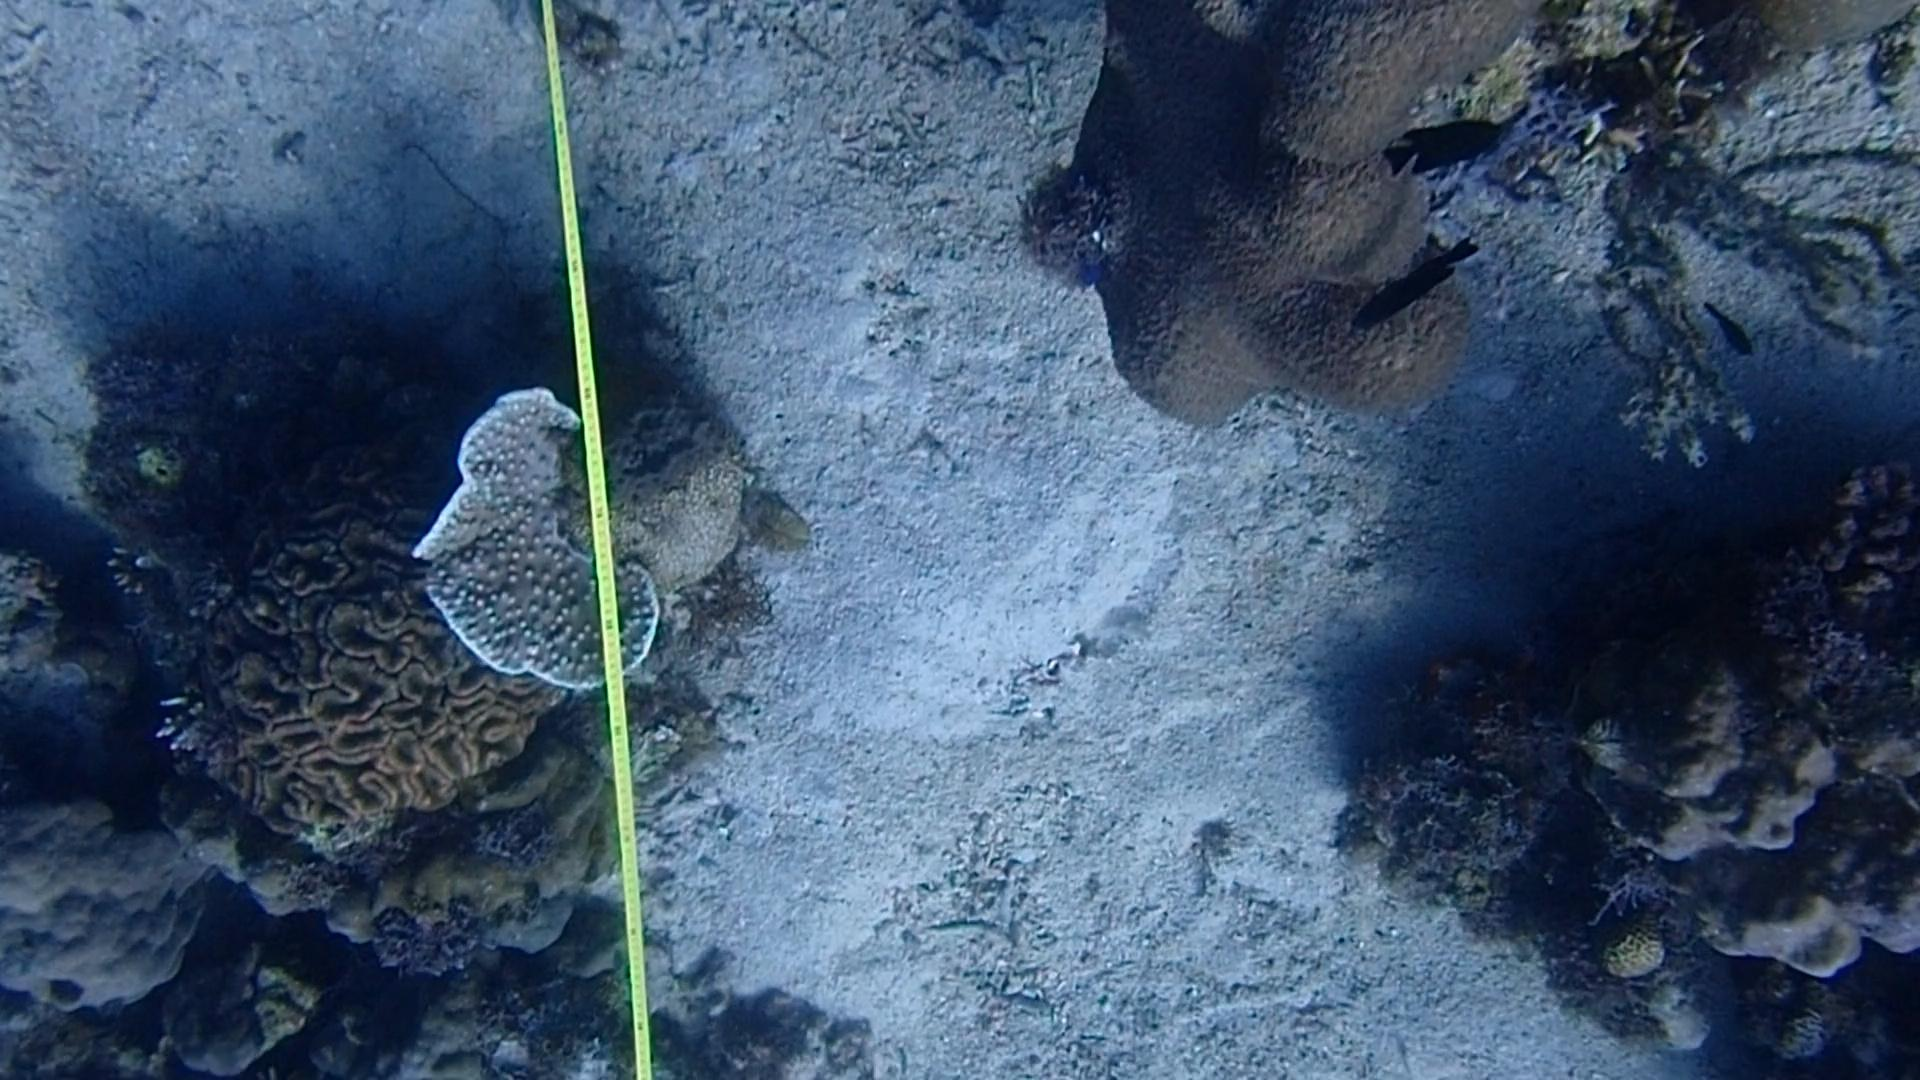Dark Fish: (1356, 232, 1472, 347), (1371, 109, 1515, 193), (1691, 285, 1774, 375)
